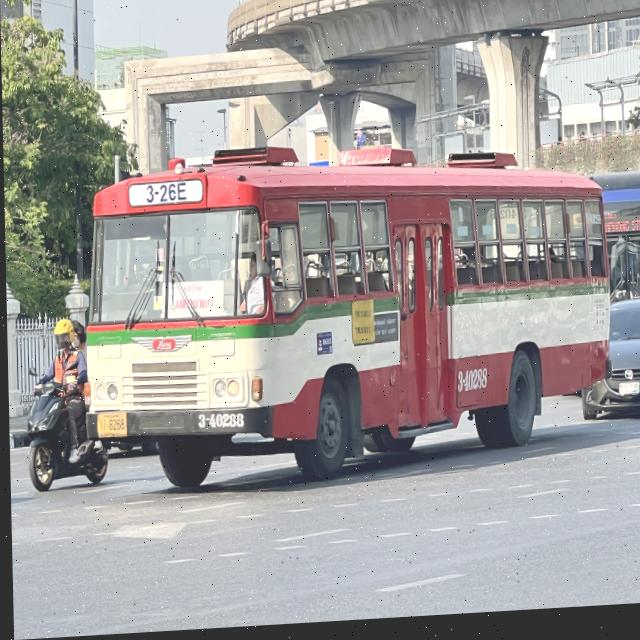BMTA-bus: (57, 136, 613, 501)
Bus-Line-Number: (140, 182, 189, 209)
Destination-Sign-Extra-Bus: (160, 282, 224, 324)
